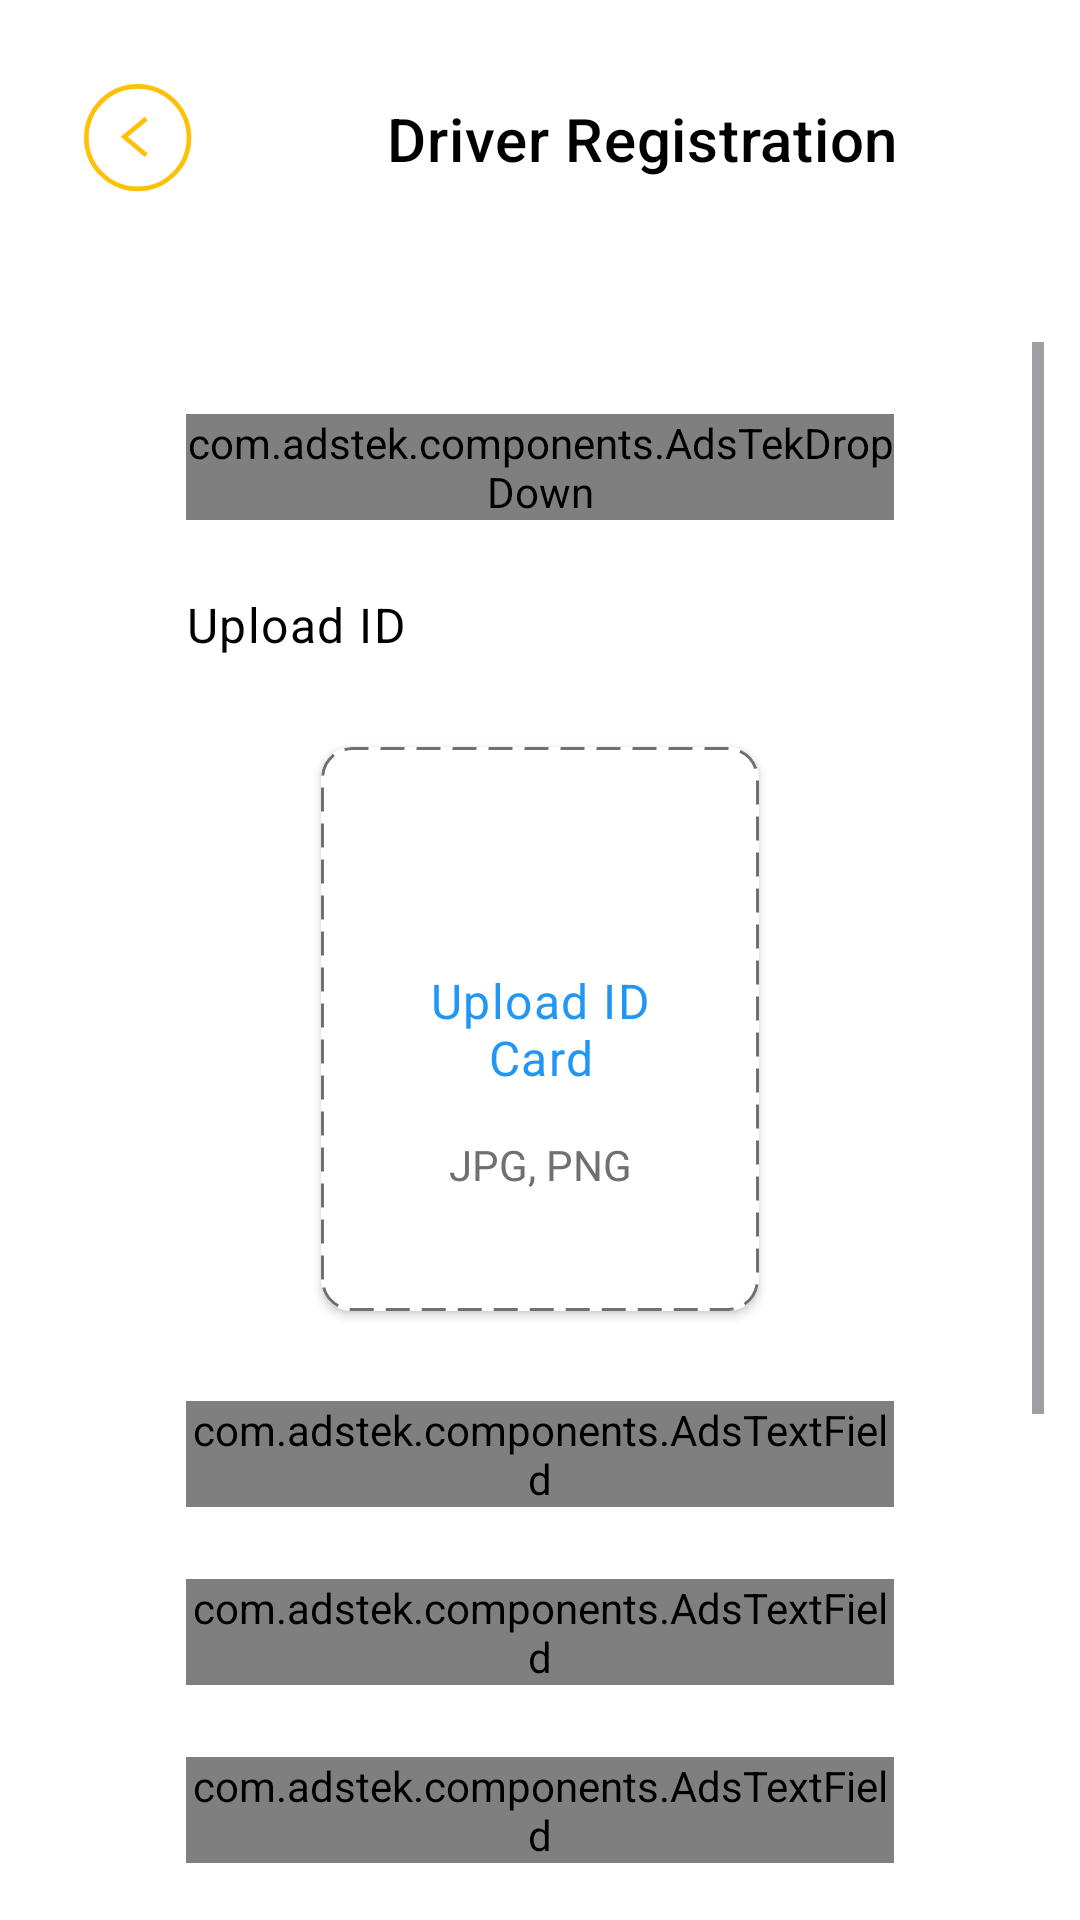

Where icons sit on this 1080*1920 app screen, as (x1, y1, x2, y2):
back vec: (84, 84, 192, 192)
